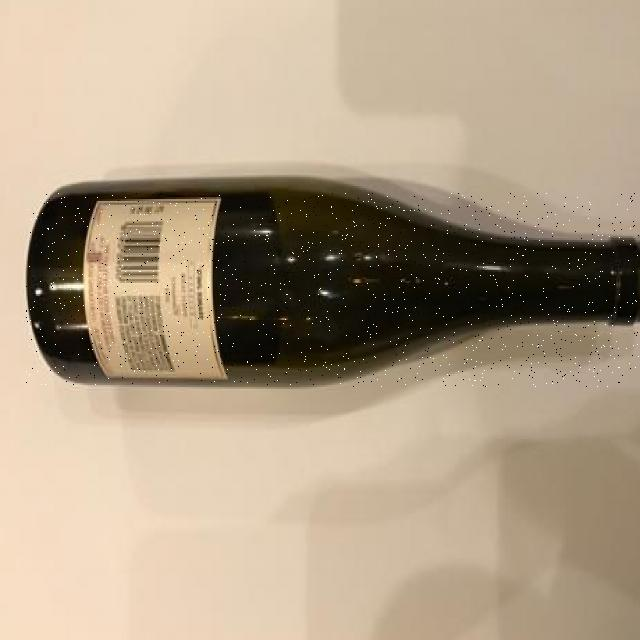glass: (27, 193, 640, 387)
